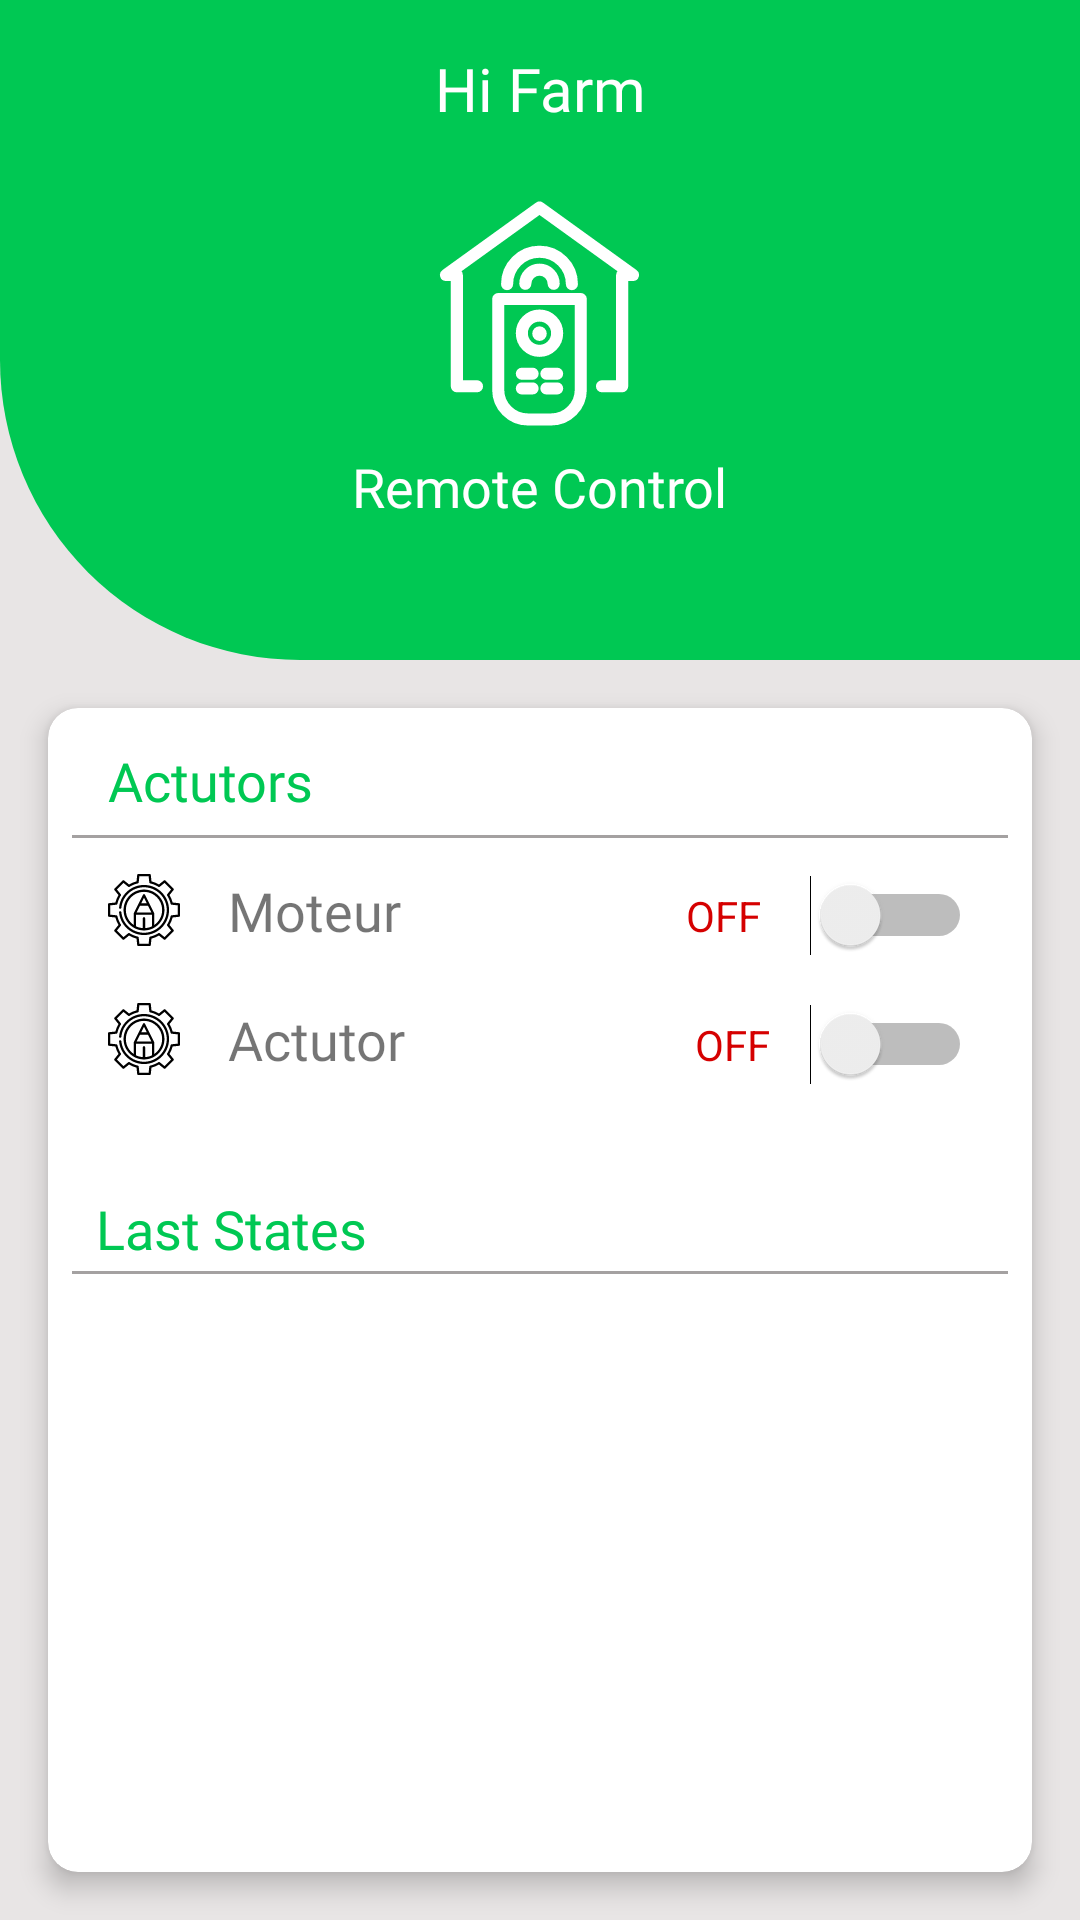

Where icons sit on this 1080 x 1920 app screen, as (x1, y1, x2, y2):
engine: (108, 874, 180, 946), (108, 1003, 180, 1075)
smart home: (440, 201, 639, 426)
